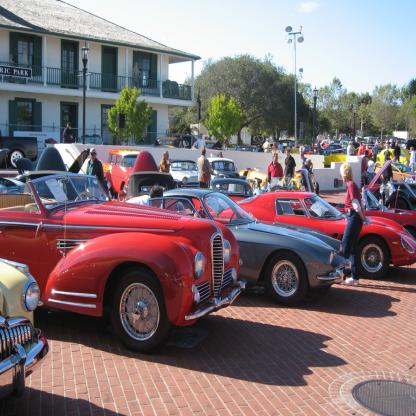Car: (1, 129, 416, 408)
